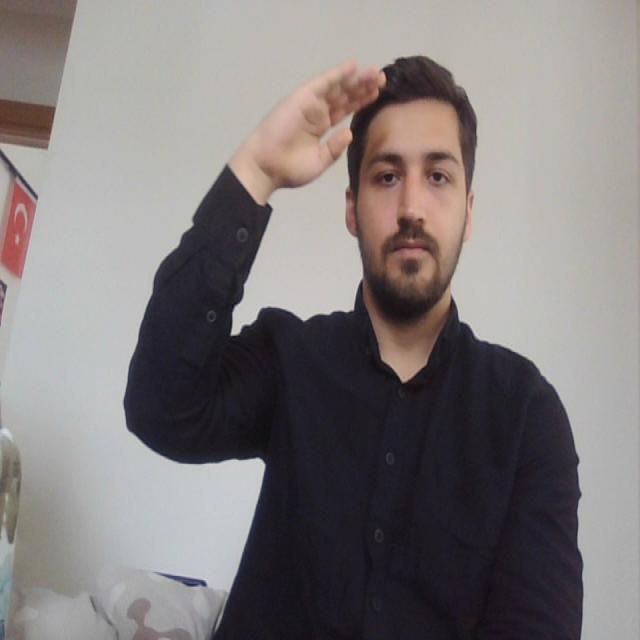Merhaba: (270, 42, 397, 271)
